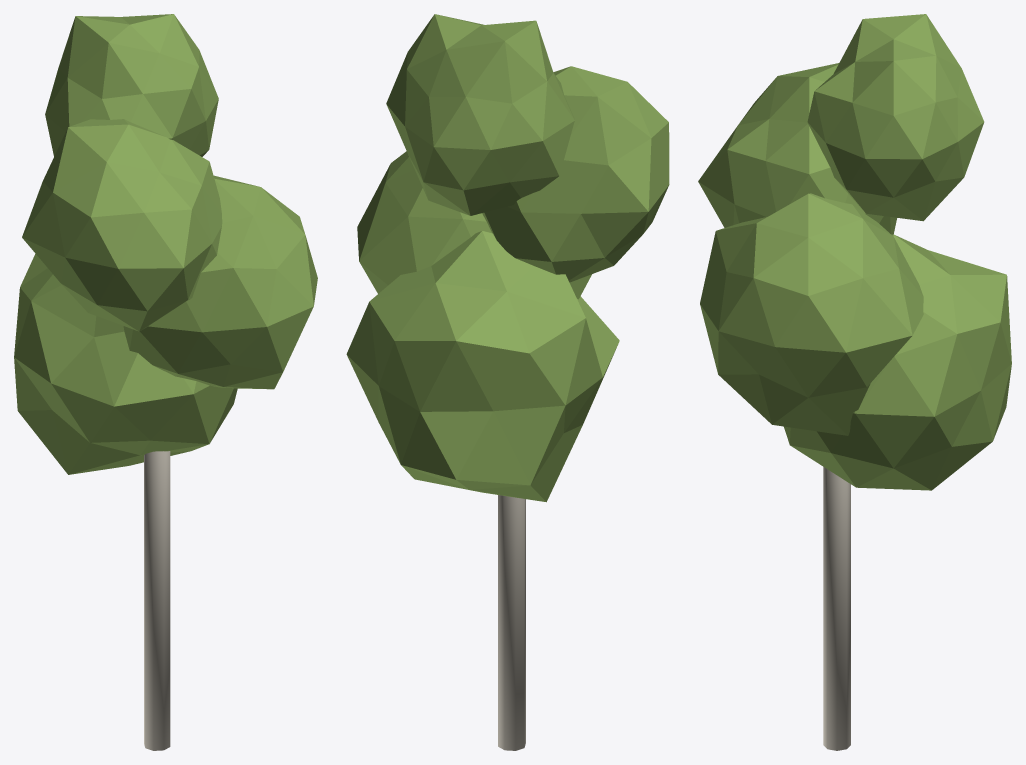
File: tree_birch.glb
3 renders of one model, left to right at view 1: azimuth 30°, elevation 25°; view 2: azimuth 150°, elevation 25°; view 3: azimuth 270°, elevation 25°, orthographic. The views are drawn at different scales.
Parts seen in each view (by area): view 1: Tree.004; view 2: Tree.004; view 3: Tree.004.
Boxes of the visible parts, x1=… form: Tree.004: x1=14, y1=14, x2=317, y2=750; Tree.004: x1=346, y1=14, x2=669, y2=750; Tree.004: x1=698, y1=14, x2=1011, y2=750.
Bounding box in the file's own units: 3.94 × 9.72 × 3.88.
